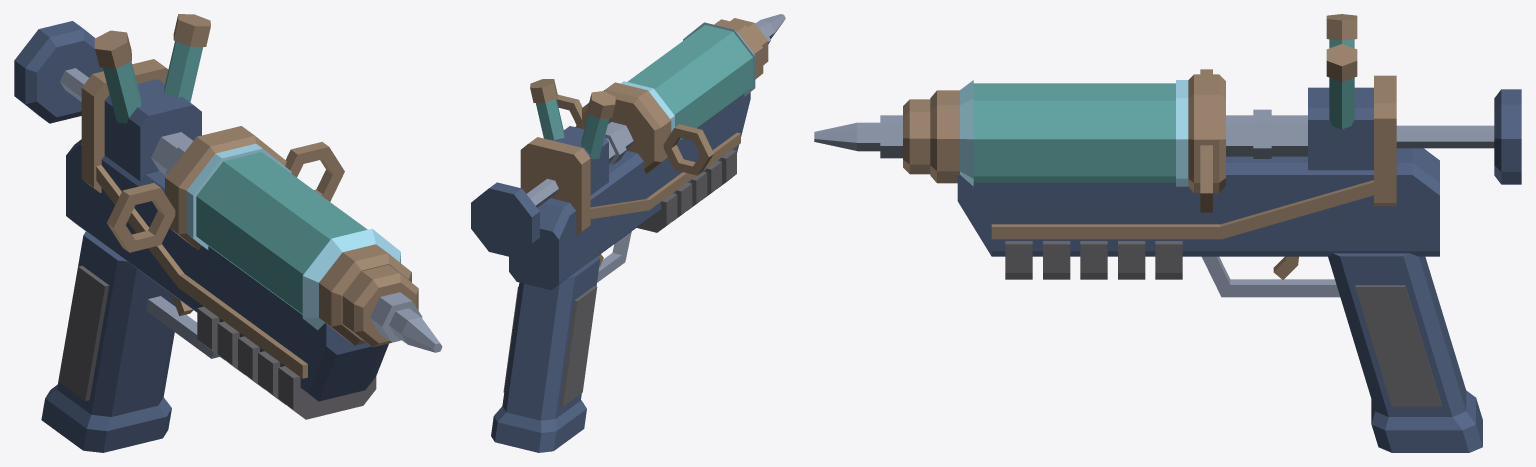
The model's file is injector-f08bef.glb.
3 renders of one model, left to right at view 1: azimuth 30°, elevation 25°; view 2: azimuth 150°, elevation 25°; view 3: azimuth 270°, elevation 25°, orthographic. The views are drawn at different scales.
Visible parts, largest first — view 1: injector-matte, injector-metal, cartridge-crystal, plunger-matte, injector-crystal, plunger-metal; view 2: injector-matte, injector-metal, cartridge-crystal, plunger-matte, injector-crystal, plunger-metal; view 3: injector-matte, injector-metal, cartridge-crystal, plunger-matte, plunger-metal, injector-crystal.
Part boxes in pixels (left/top/right/bottom): injector-matte: left=41, top=79, right=388, bottom=452; injector-metal: left=81, top=14, right=442, bottom=378; cartridge-crystal: left=186, top=143, right=400, bottom=330; plunger-matte: left=14, top=21, right=103, bottom=123; injector-crystal: left=103, top=41, right=203, bottom=123; plunger-metal: left=60, top=68, right=88, bottom=101; injector-matte: left=491, top=92, right=750, bottom=452; injector-metal: left=520, top=14, right=785, bottom=282; cartridge-crystal: left=621, top=22, right=755, bottom=141; plunger-matte: left=471, top=182, right=539, bottom=257; injector-crystal: left=536, top=98, right=609, bottom=159; plunger-metal: left=527, top=178, right=558, bottom=207; injector-matte: left=957, top=87, right=1482, bottom=452; injector-metal: left=814, top=14, right=1396, bottom=297; cartridge-crystal: left=960, top=80, right=1188, bottom=186; plunger-matte: left=1494, top=89, right=1521, bottom=184; plunger-metal: left=1396, top=125, right=1494, bottom=148; injector-crystal: left=1329, top=39, right=1354, bottom=129.
Size of the model in its own units: 0.1087 by 0.1948 by 0.311.
